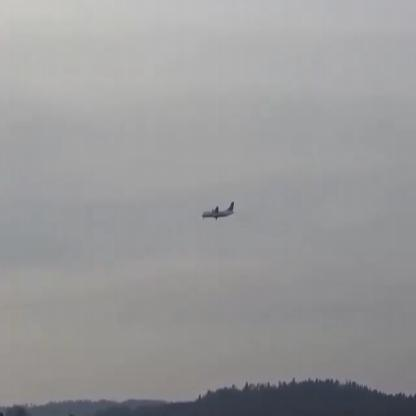aircraft: (202, 201, 234, 220)
